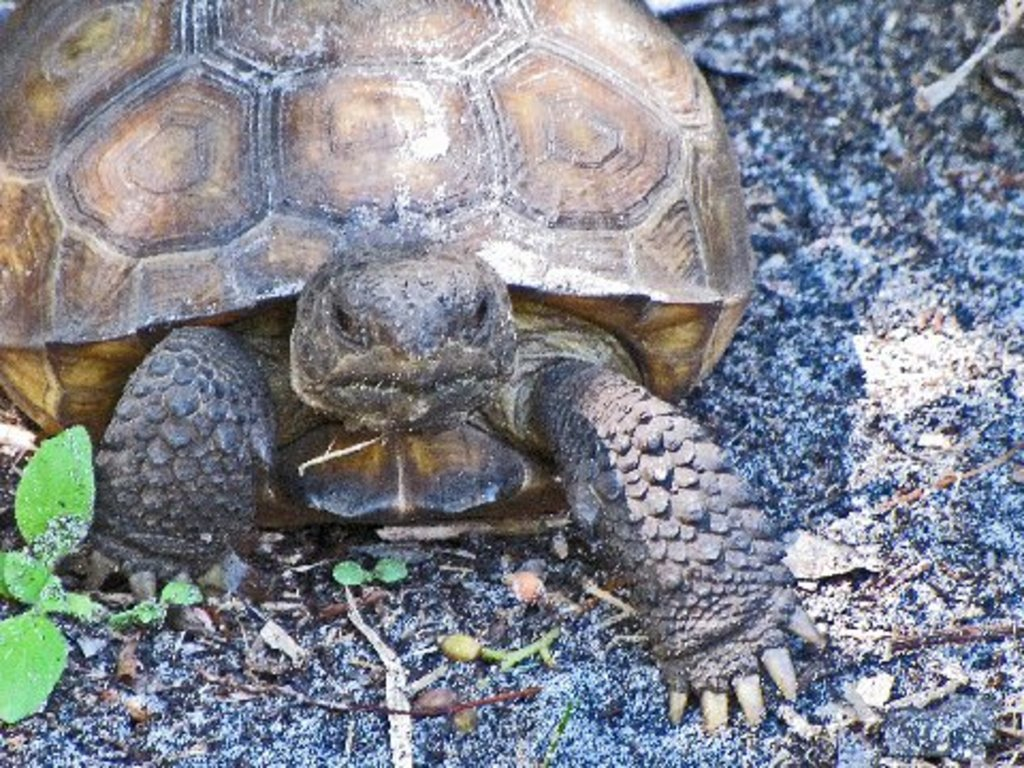Sea turtles: (0, 0, 829, 723)
